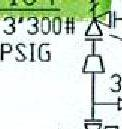psv: (83, 1, 110, 41)
